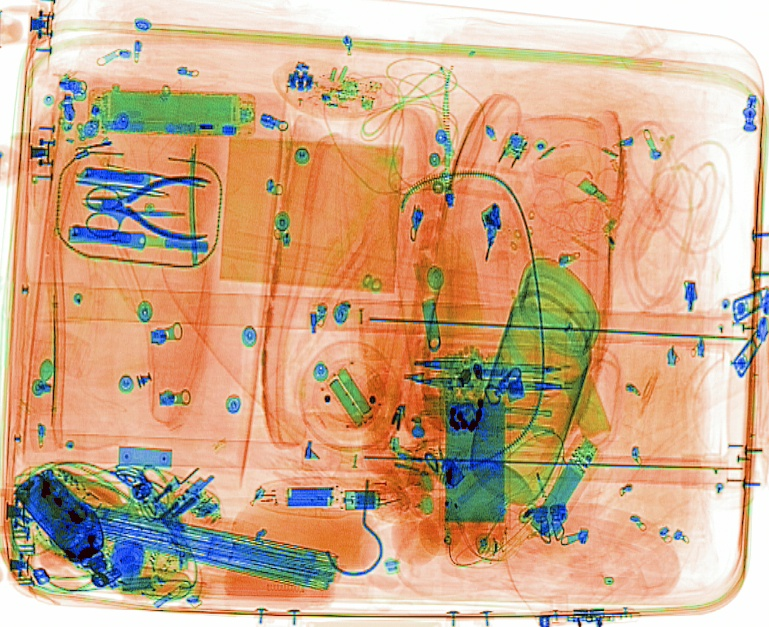powerbank: (527, 433, 601, 545)
scissors: (84, 184, 189, 239)
